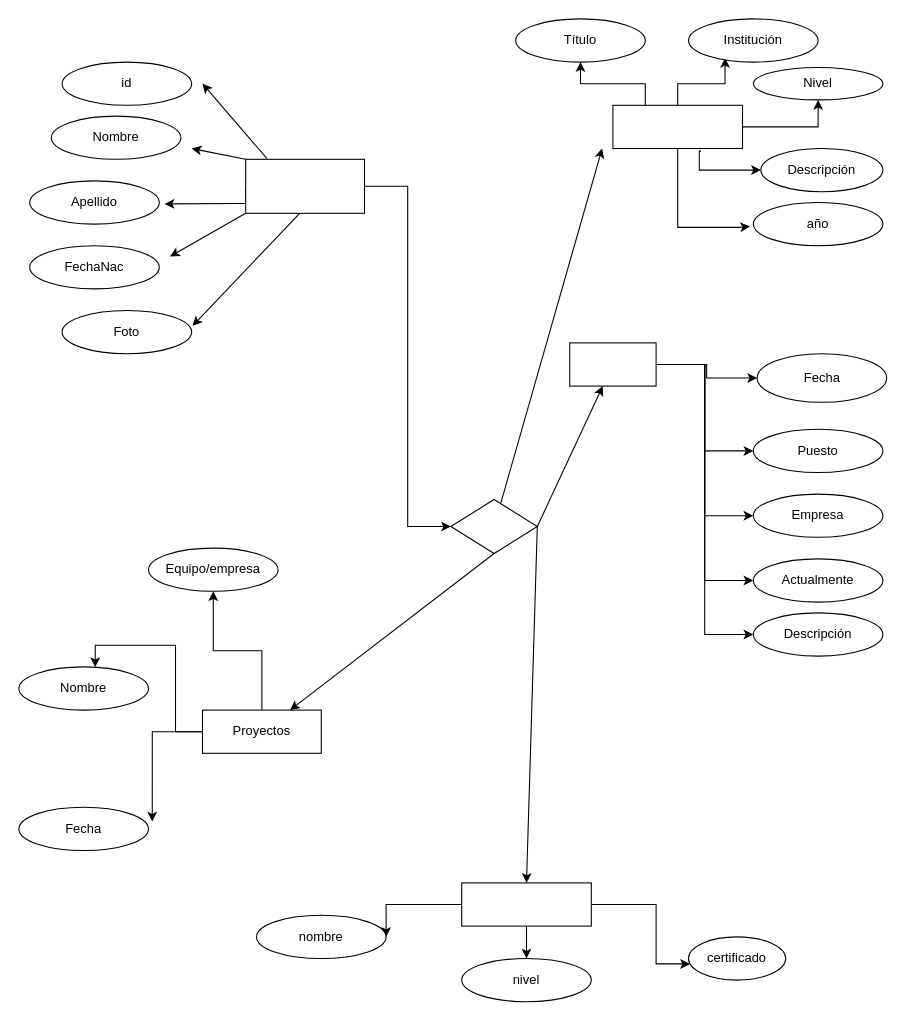
This 906x1021 diagram has some shape labels left out. Each missing label, with the centre of its shape:
Educación: the point at 677,126
Experiencia: the point at 612,364
Habilidades: the point at 526,904
Persona: the point at 304,185
pertenece: the point at 493,526
